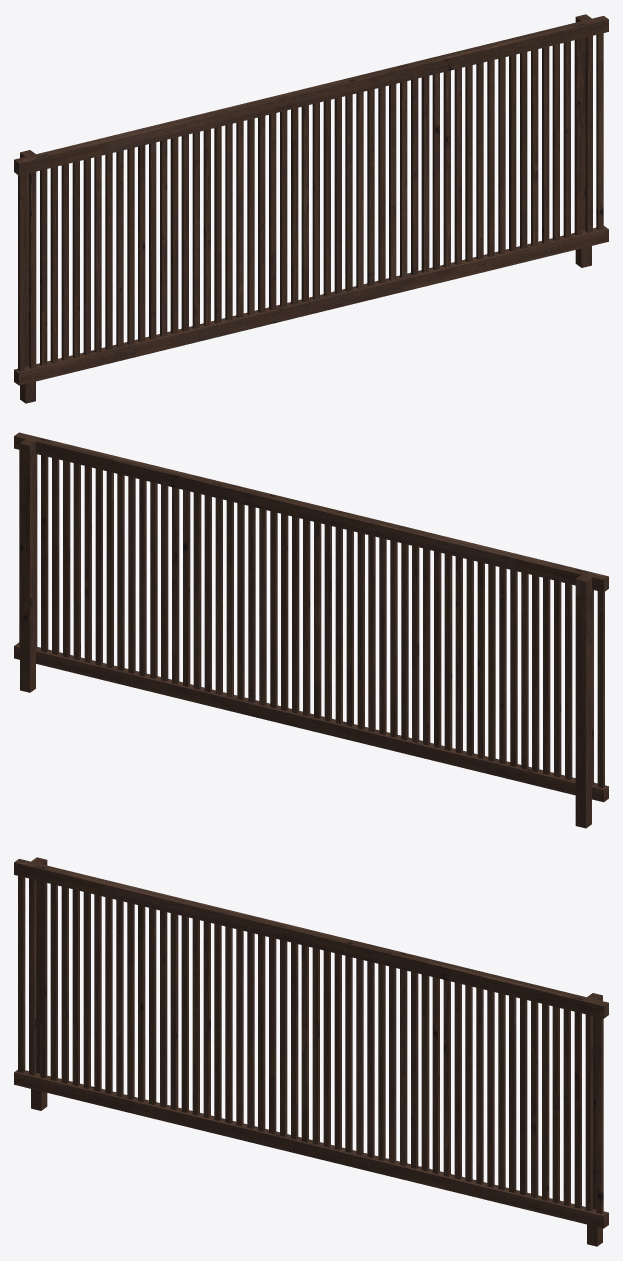
File: EAFtatehosogoushi_w1998-h720_darkpine.fbx
3 views of the same model, one above another, from view 1: azimuth 30°, elevation 25°; view 2: azimuth 150°, elevation 25°; view 3: azimuth 330°, elevation 25° (orthographic).
Visible parts, largest first — view 1: EAFtatehosogoushi_w1998-h720_darkpine; view 2: EAFtatehosogoushi_w1998-h720_darkpine; view 3: EAFtatehosogoushi_w1998-h720_darkpine.
Boxes of the visible parts, x1,y1,x2,y2 form: EAFtatehosogoushi_w1998-h720_darkpine: (14,14,608,403); EAFtatehosogoushi_w1998-h720_darkpine: (14,432,608,828); EAFtatehosogoushi_w1998-h720_darkpine: (14,857,608,1246).
Bounding box in the file's own units: 200 × 80 × 6.5.
Materials: 1 (1 with a texture image).
